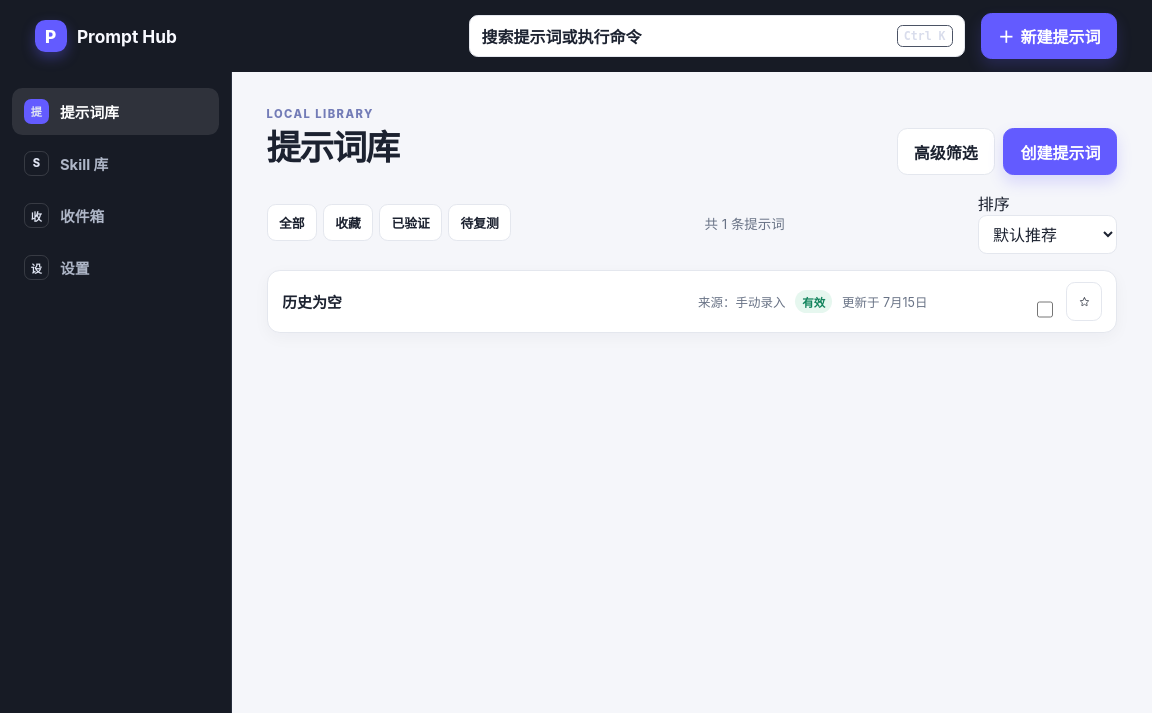
Test: App › does not offer empty prompt actions when history has no versions
Click the button with aria-label "打开提示词：历史为空" at (312, 302), box top-left (282, 291), bottom-right (342, 312)
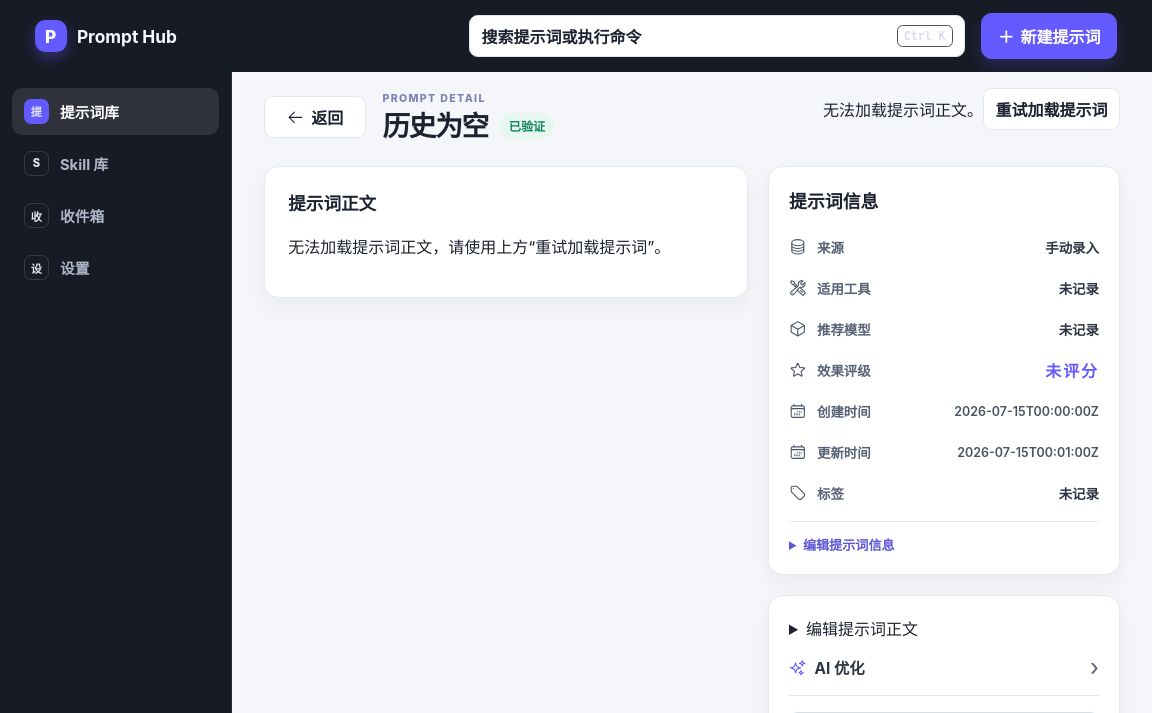
Result: the message shows "无法加载提示词正文" at top-left (823, 100), bottom-right (983, 120)
Result: the button "重试加载提示词" is shown at top-left (983, 88), bottom-right (1120, 130)
